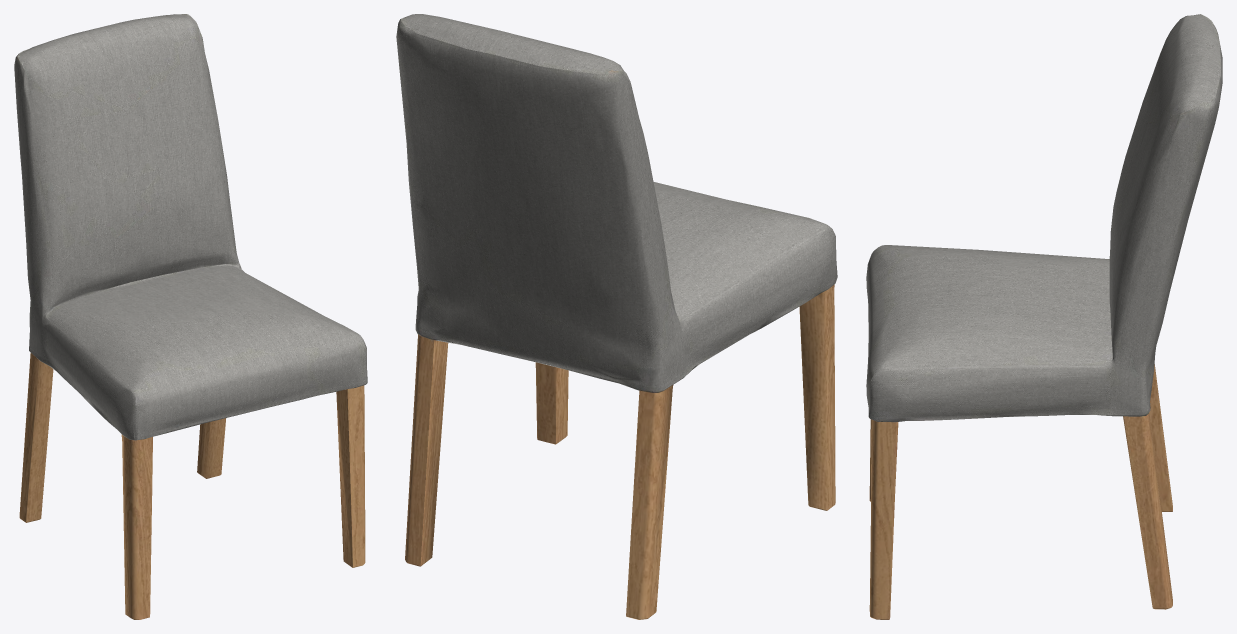
File: 36 - BERGMUND - 餐椅, 橡木紋Orrsta 淺灰色 IKEA 線上購物.glb
3 renders of one model, left to right at view 1: azimuth 30°, elevation 25°; view 2: azimuth 150°, elevation 25°; view 3: azimuth 270°, elevation 25°, orthographic. The views are drawn at different scales.
Parts seen in each view (by area): view 1: ProcessedMeshNode; view 2: ProcessedMeshNode; view 3: ProcessedMeshNode.
Part boxes in pixels (<box>): ProcessedMeshNode: <box>14,14,367,619</box>; ProcessedMeshNode: <box>396,14,837,619</box>; ProcessedMeshNode: <box>866,14,1222,619</box>.
Size of the model in its own units: 0.5342 by 0.9584 by 0.6136.
1 material, 1 textured.
